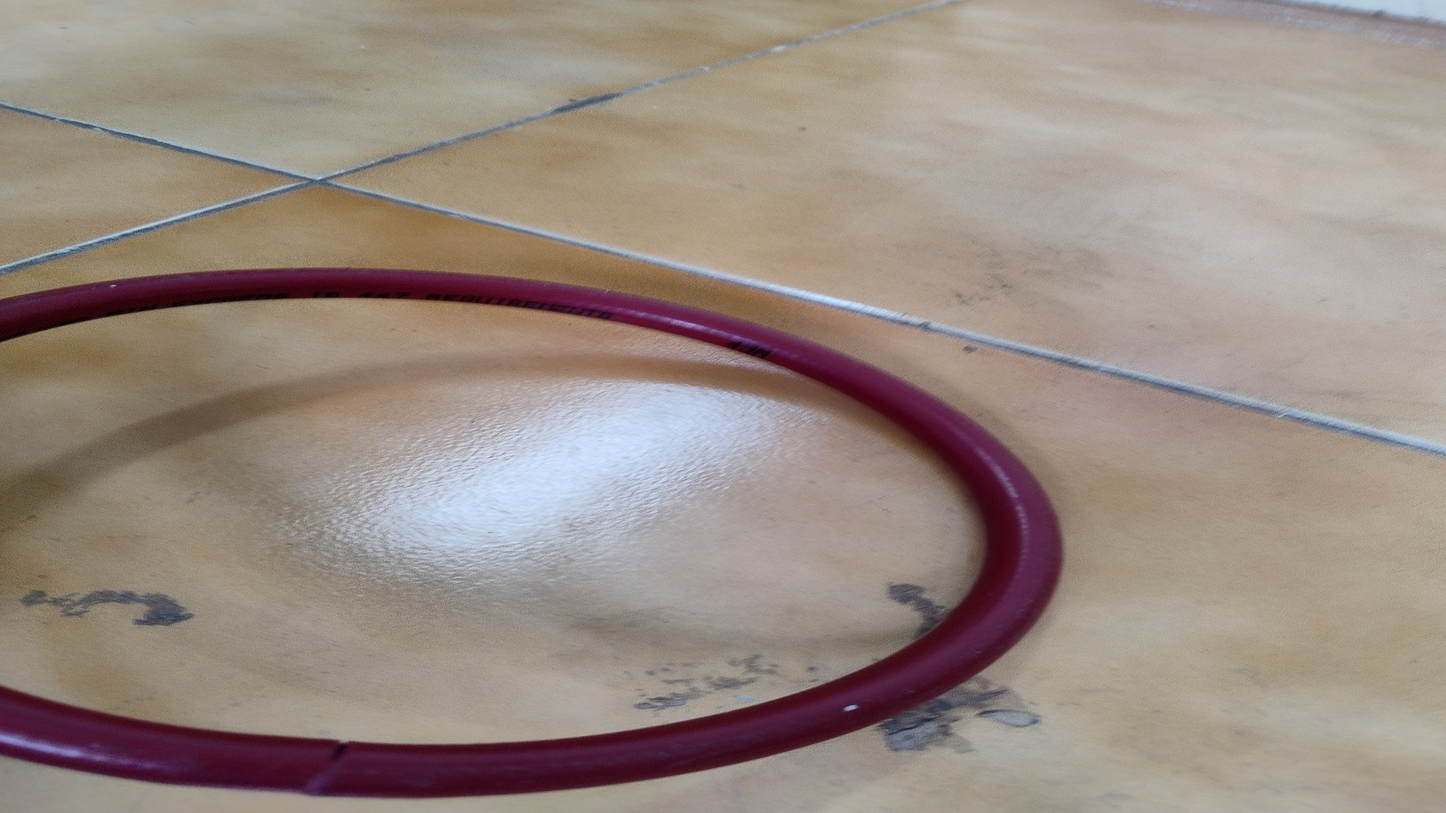Red ring: (5, 266, 1059, 797)
